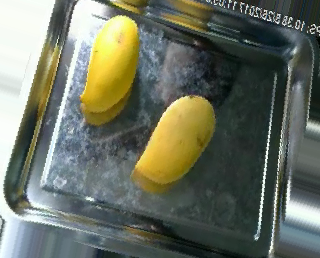Mango: (134, 93, 217, 185), (79, 12, 139, 114)
